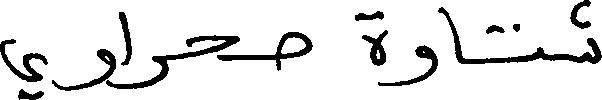X: (0, 34, 47, 99), (73, 44, 115, 94), (362, 6, 386, 90), (572, 0, 601, 68), (416, 5, 438, 87), (186, 30, 237, 65), (276, 27, 311, 75), (138, 50, 168, 92), (443, 3, 462, 68), (119, 7, 131, 93), (536, 42, 544, 64)
